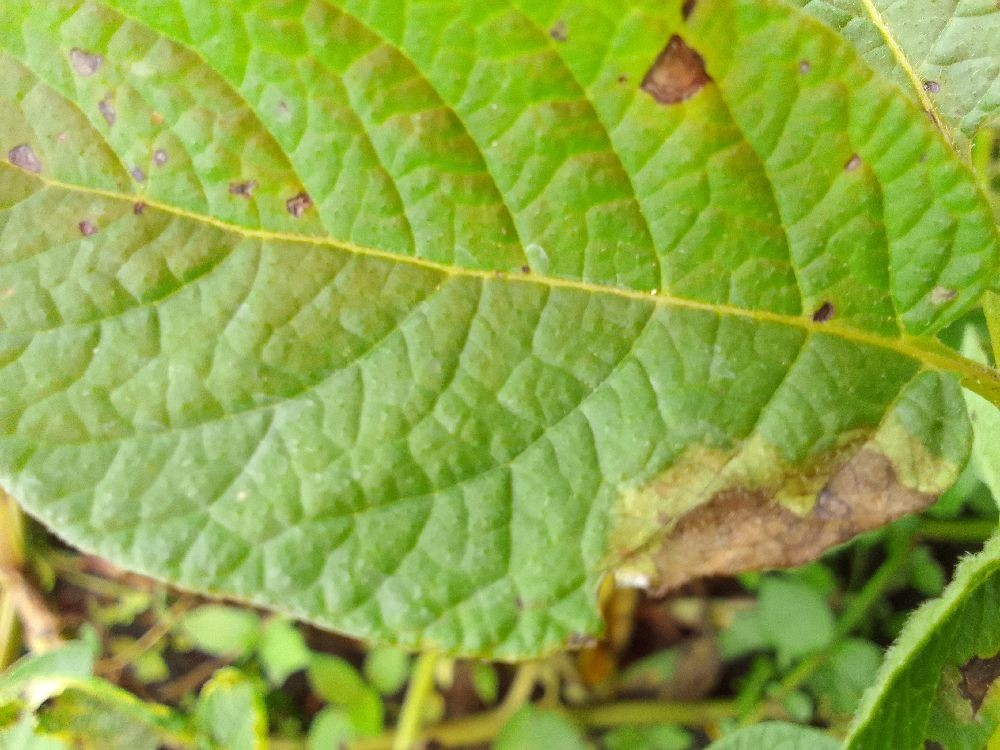late_blight: (324, 410, 957, 749), (0, 454, 306, 746), (631, 24, 724, 117), (259, 660, 337, 749)
